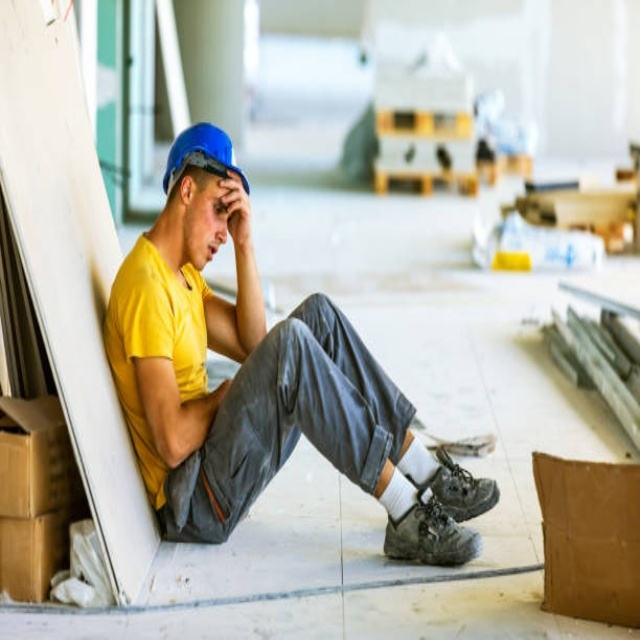Sin_gafas: (196, 180, 228, 221)
Sin_guantes: (220, 166, 253, 245)
Sin_mascara: (195, 237, 219, 268)
